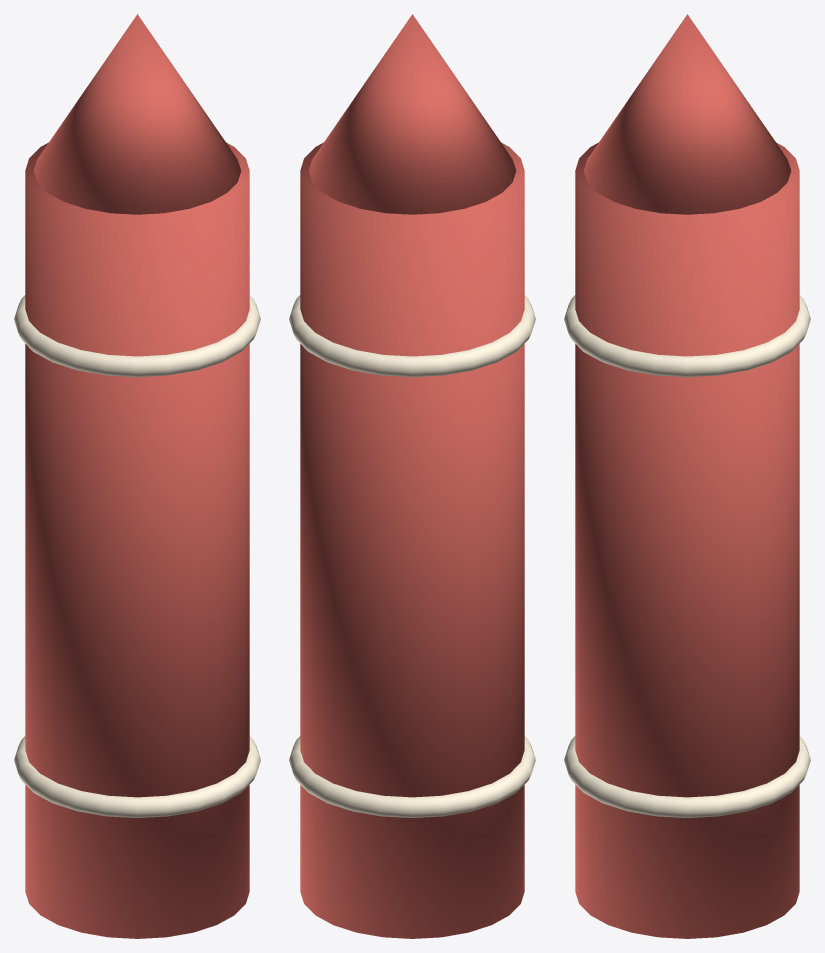
Rendered from word-crayon.glb.
3 renders of one model, left to right at view 1: azimuth 30°, elevation 25°; view 2: azimuth 150°, elevation 25°; view 3: azimuth 270°, elevation 25°, orthographic.
Parts seen in each view (by area): view 1: crayon, crayon tip, crayon wrapper, crayon wrapper.001; view 2: crayon, crayon tip, crayon wrapper, crayon wrapper.001; view 3: crayon, crayon tip, crayon wrapper, crayon wrapper.001.
Boxes of the visible parts, bbox=[...] form: crayon: bbox=[25, 142, 249, 938]; crayon tip: bbox=[33, 14, 241, 214]; crayon wrapper: bbox=[14, 736, 260, 817]; crayon wrapper.001: bbox=[14, 295, 260, 377]; crayon: bbox=[300, 142, 524, 938]; crayon tip: bbox=[308, 14, 516, 214]; crayon wrapper: bbox=[289, 736, 535, 817]; crayon wrapper.001: bbox=[289, 295, 535, 377]; crayon: bbox=[575, 142, 799, 938]; crayon tip: bbox=[583, 14, 791, 214]; crayon wrapper: bbox=[564, 736, 810, 817]; crayon wrapper.001: bbox=[564, 295, 810, 377].
Size of the model in its own units: 0.264 by 1.03 by 0.264.
